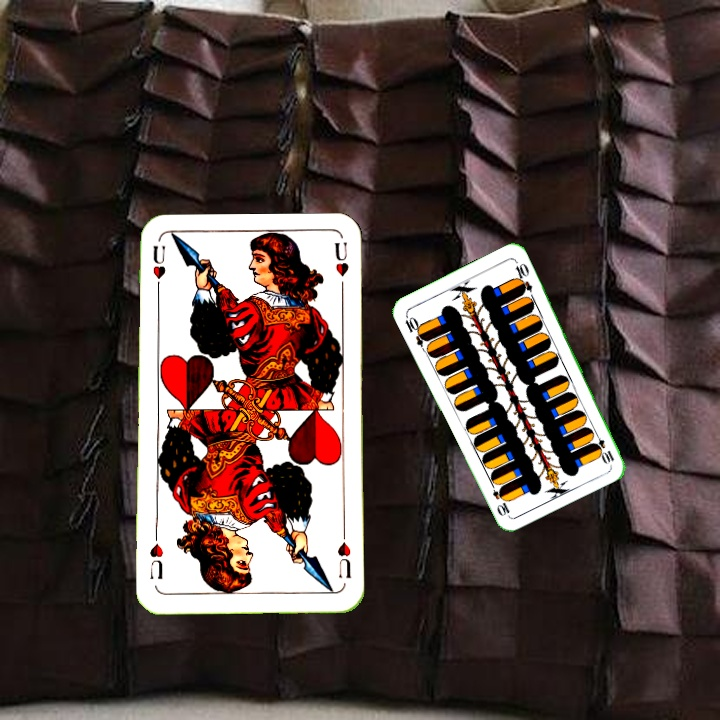E10: (401, 311, 430, 349), (589, 428, 617, 466)
HU: (148, 241, 167, 298), (334, 528, 354, 581)
